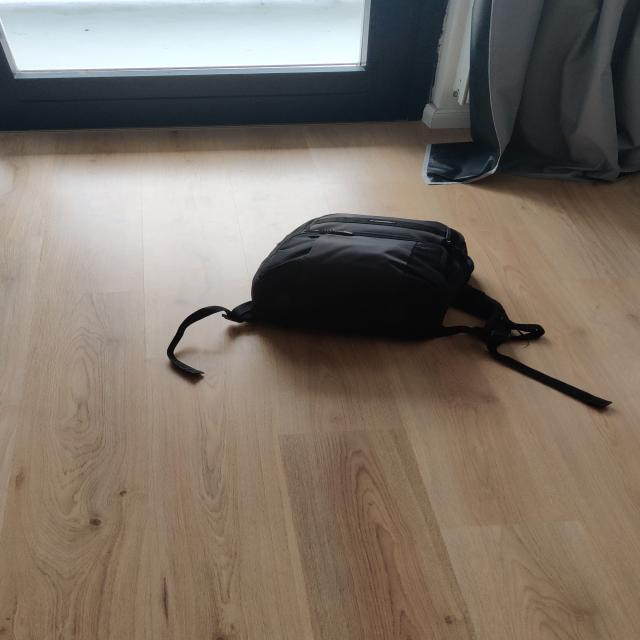backpack: (231, 209, 508, 347)
